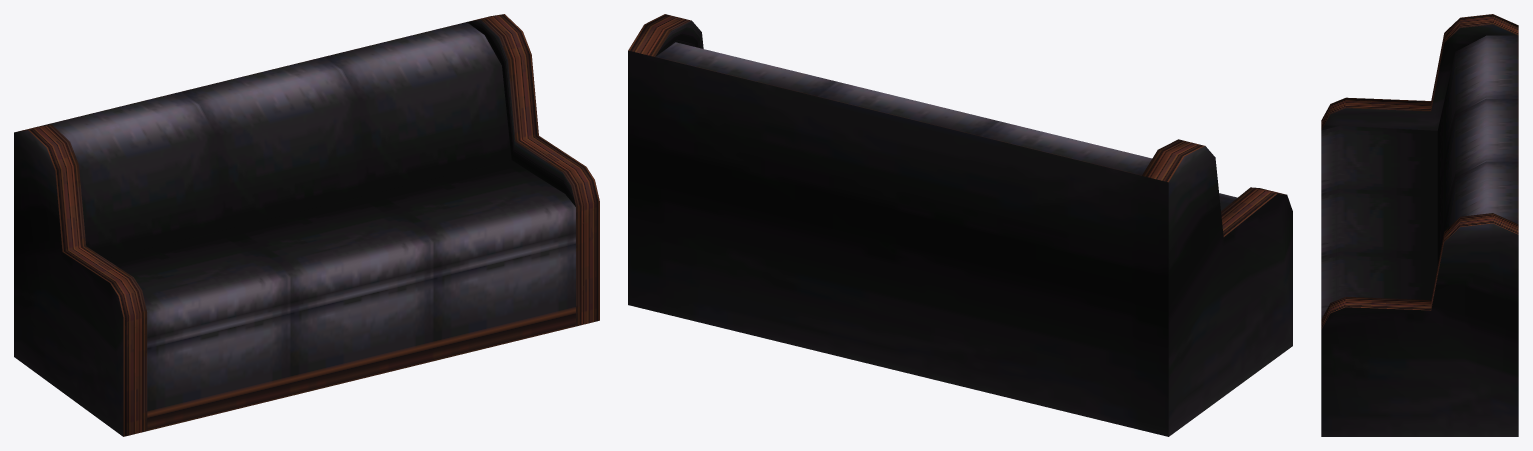
Rendered from couch_med_hi.fbx.
The picture shows the model from 3 angles, left to right: view 1: azimuth 30°, elevation 25°; view 2: azimuth 150°, elevation 25°; view 3: azimuth 270°, elevation 25°; orthographic projection. The views are drawn at different scales.
Parts seen in each view (by area): view 1: mesh_0; view 2: mesh_0; view 3: mesh_0.
Boxes of the visible parts, <box> form: mesh_0: <box>14,14,599,436</box>; mesh_0: <box>628,14,1292,436</box>; mesh_0: <box>1321,14,1518,436</box>.
Size of the model in its own units: 200 by 95.04 by 79.51.
1 material, 1 textured.
